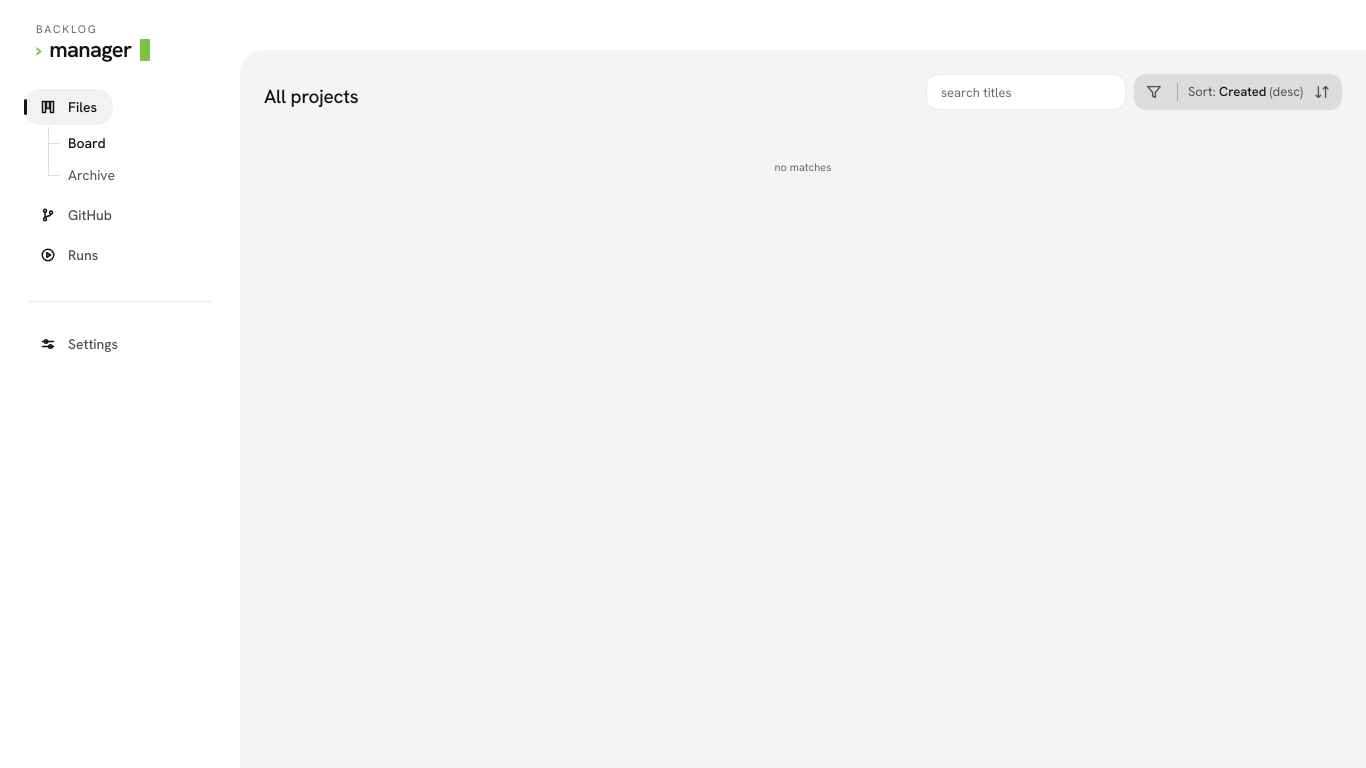
Test: the section rail › clicking Runs renders the runs view
The image size is (1366, 768).
Click the button "Runs". click: (69, 255)
box: [24,237,114,273]
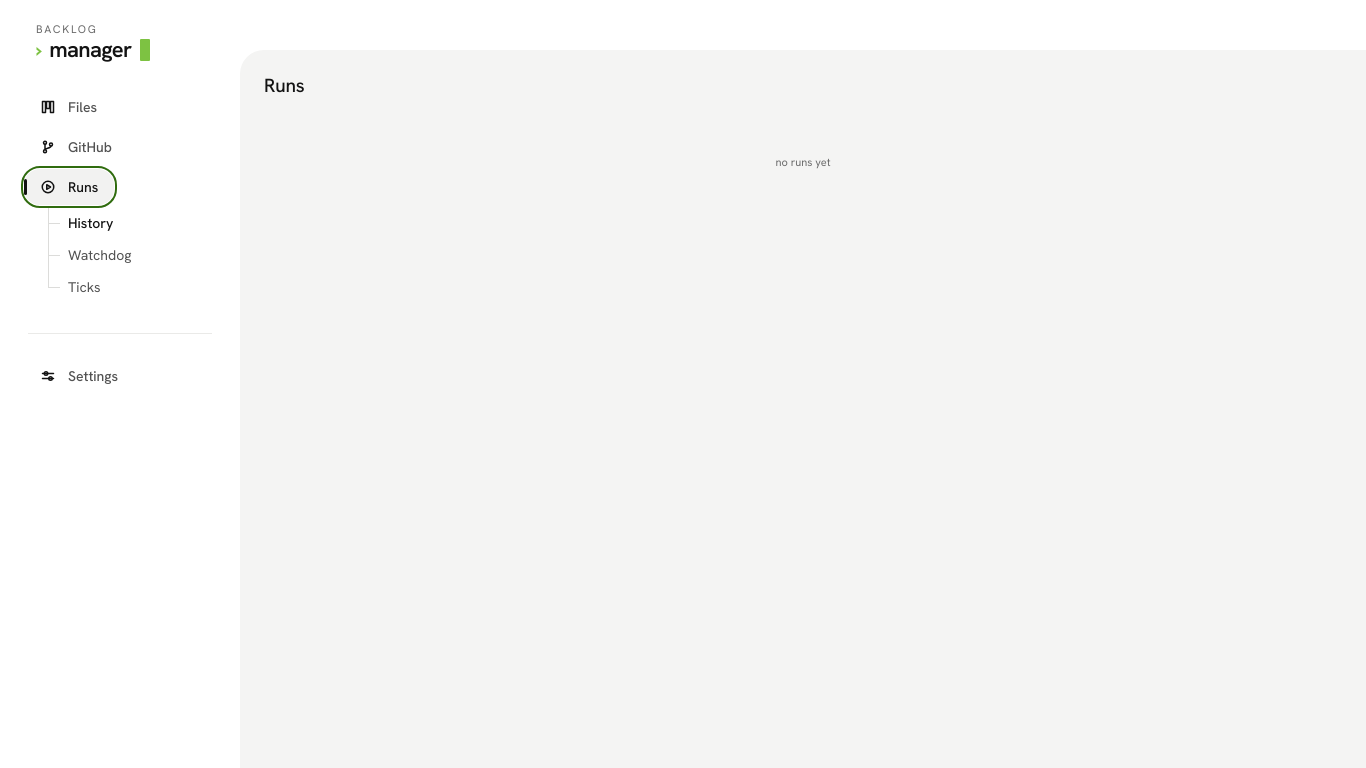
Expected: the button "Runs" is shown, [24,169,114,205]
Expected: the text "no runs yet" is shown, [774,153,832,172]
